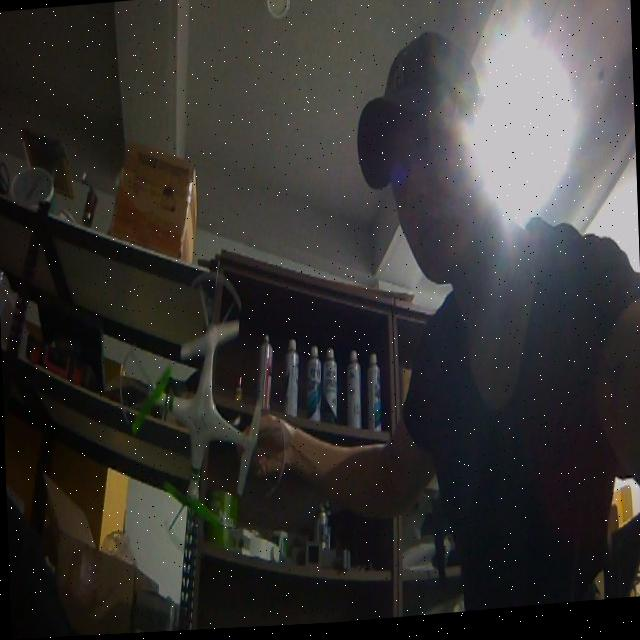drone: (114, 267, 292, 563)
